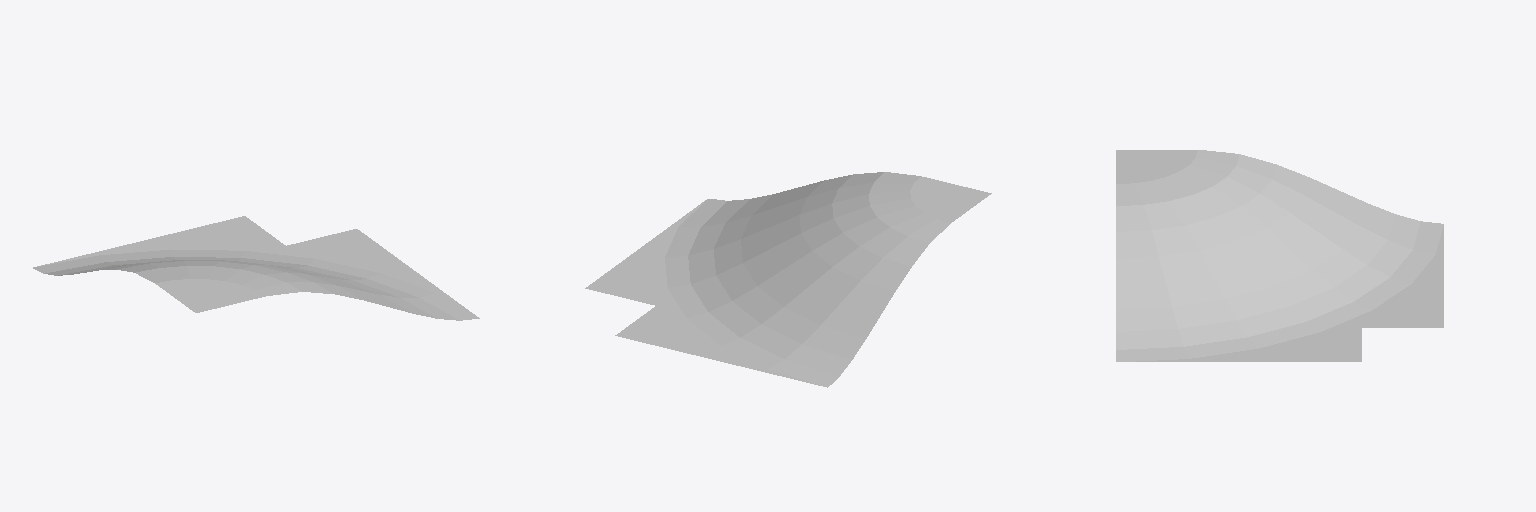
Rendered from Terrain_Hill_Corner_Outer_4x4.obj.
3 renders of one model, left to right at view 1: azimuth 30°, elevation 25°; view 2: azimuth 150°, elevation 25°; view 3: azimuth 270°, elevation 25°, orthographic.
Parts seen in each view (by area): view 1: Grass; view 2: Grass; view 3: Grass.
Part boxes in pixels (left/top/right/bottom): Grass: left=33, top=216, right=479, bottom=320; Grass: left=585, top=172, right=991, bottom=387; Grass: left=1116, top=150, right=1443, bottom=361.
Size of the model in its own units: 4 by 1 by 4.